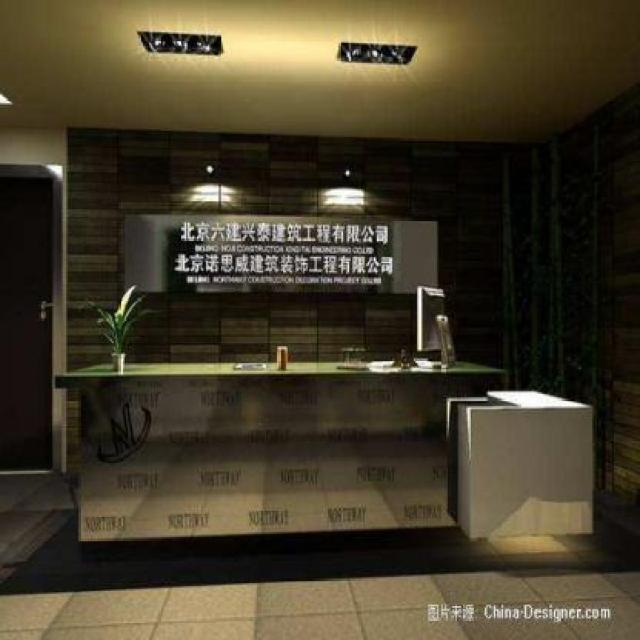frontdesk: (43, 346, 610, 563)
